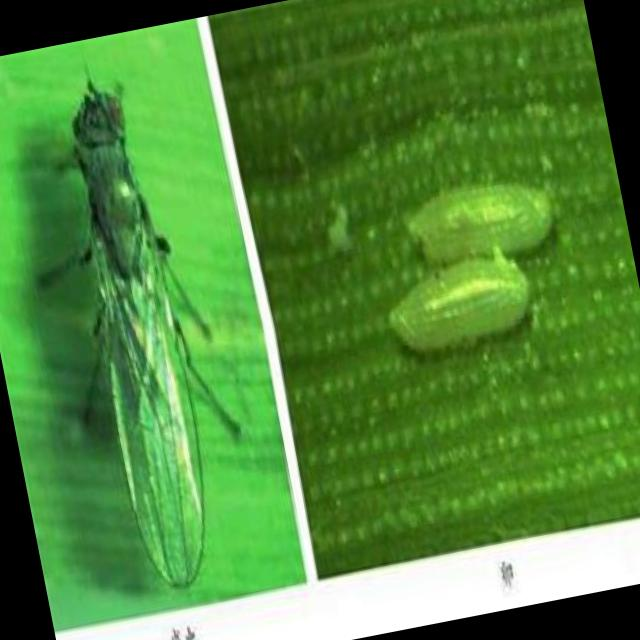whorl-maggot: (380, 250, 550, 372), (394, 173, 567, 280)
